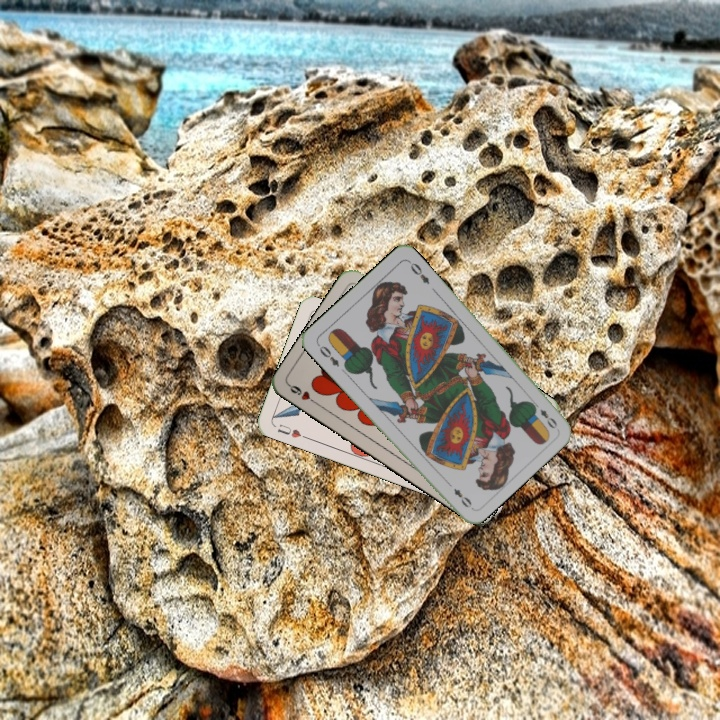EO: (528, 398, 560, 431), (313, 340, 342, 369)
H9: (285, 380, 321, 408)
HU: (273, 420, 310, 441)
